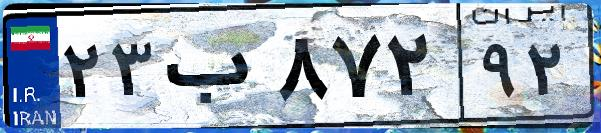2: (385, 28, 445, 110), (57, 26, 110, 100), (525, 38, 570, 115)
3: (110, 28, 158, 98)
7: (330, 28, 385, 110)
8: (270, 28, 330, 110)
9: (475, 38, 525, 113)
ب: (158, 20, 270, 120)
